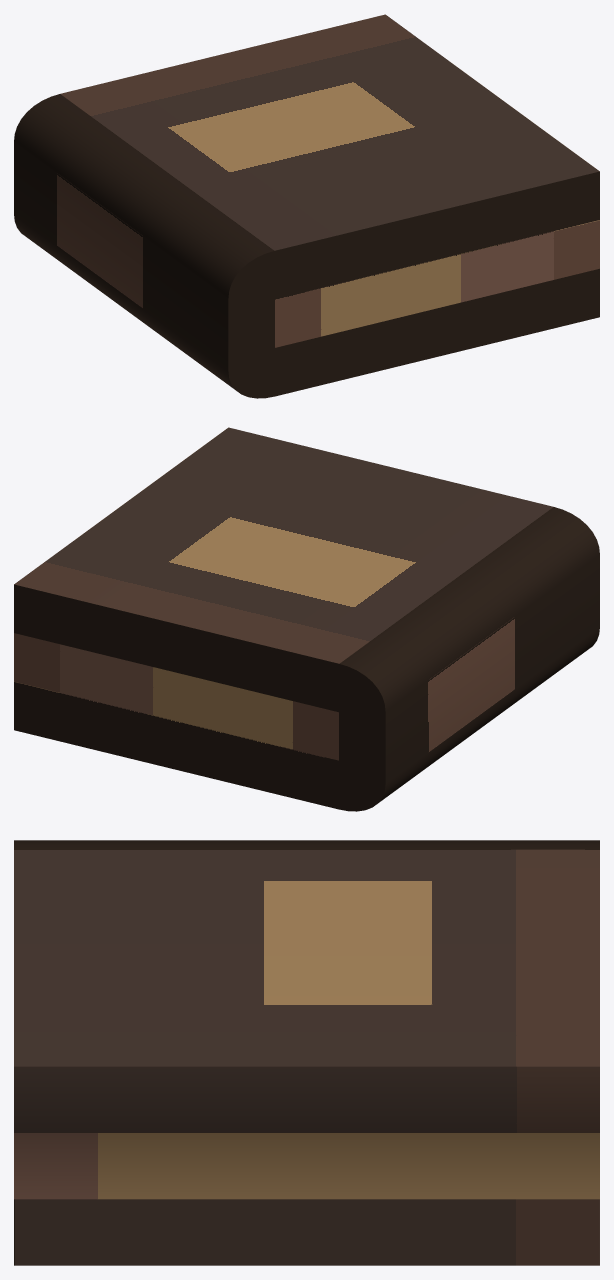
File: book_642x22.obj
The picture shows the model from 3 angles, top to bottom: view 1: azimuth 30°, elevation 25°; view 2: azimuth 150°, elevation 25°; view 3: azimuth 270°, elevation 25°; orthographic projection. The views are drawn at different scales.
Visible parts, largest first — view 1: Cube; view 2: Cube; view 3: Cube.
Boxes of the visible parts, <box> form: Cube: <box>14,14,599,398</box>; Cube: <box>14,427,599,811</box>; Cube: <box>14,840,599,1265</box>.
Size of the model in its own units: 1 by 0.375 by 1.
